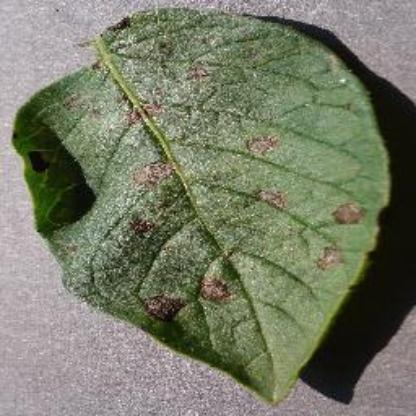Early-Blight: (12, 7, 406, 407)
